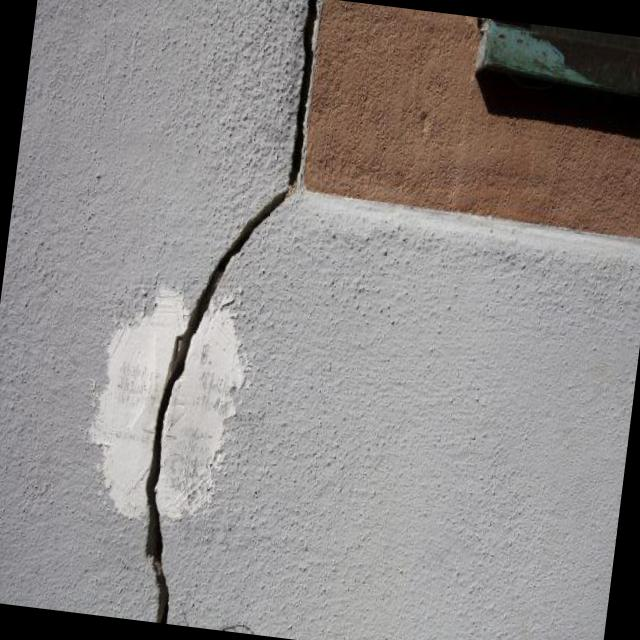crack: (146, 0, 320, 622)
